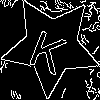K: (26, 21, 72, 76)
